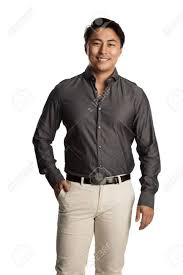F_belt: (58, 168, 137, 187)
